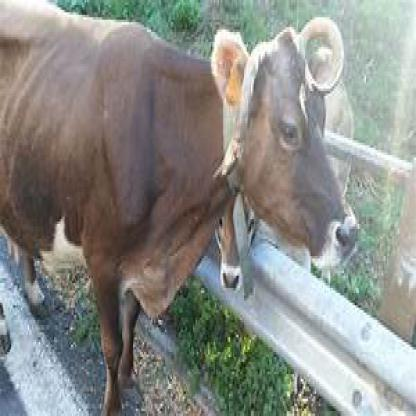cow: (0, 0, 358, 411)
